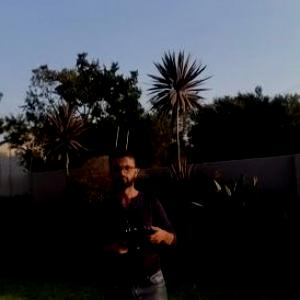follow: (88, 137, 185, 299)
